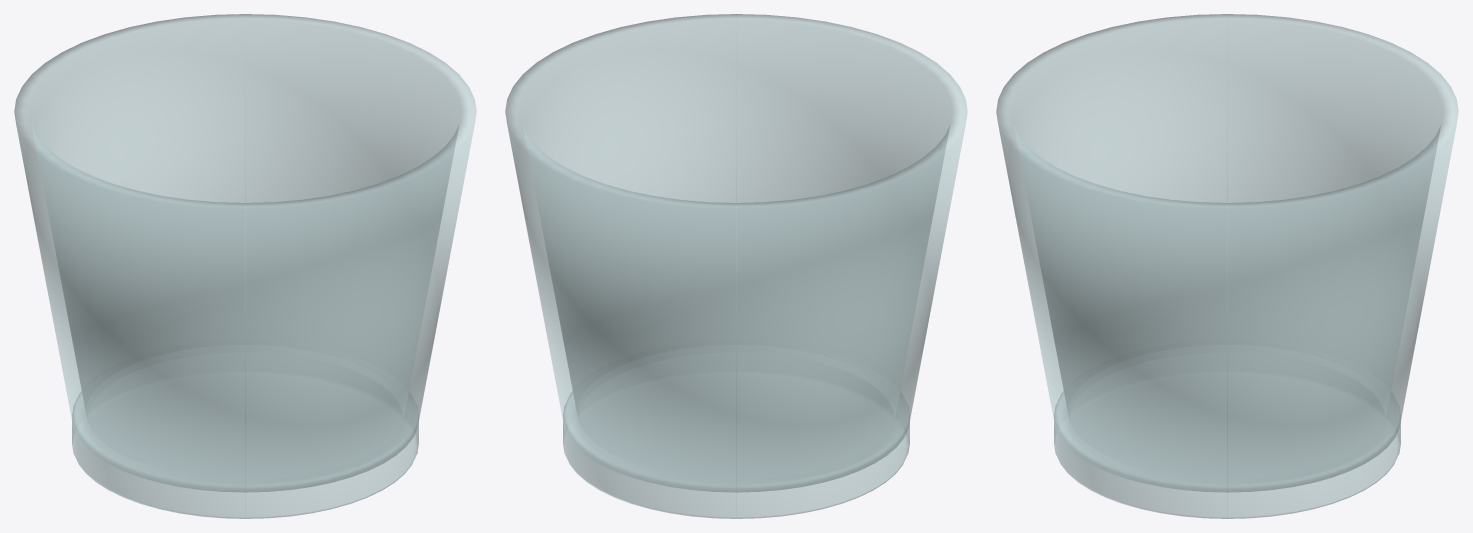
File: cup.glb
3 renders of one model, left to right at view 1: azimuth 30°, elevation 25°; view 2: azimuth 150°, elevation 25°; view 3: azimuth 270°, elevation 25°, orthographic.
Visible parts, largest first — view 1: dose_cup_0__wall, dose_cup_0__base; view 2: dose_cup_0__wall, dose_cup_0__base; view 3: dose_cup_0__wall, dose_cup_0__base.
Part boxes in pixels (x1=…): dose_cup_0__wall: x1=14, y1=14, x2=476, y2=492; dose_cup_0__base: x1=72, y1=352, x2=418, y2=518; dose_cup_0__wall: x1=505, y1=14, x2=967, y2=492; dose_cup_0__base: x1=563, y1=352, x2=909, y2=518; dose_cup_0__wall: x1=996, y1=14, x2=1458, y2=492; dose_cup_0__base: x1=1054, y1=352, x2=1400, y2=518.
Size of the model in its own units: 0.06 by 0.048 by 0.06.
